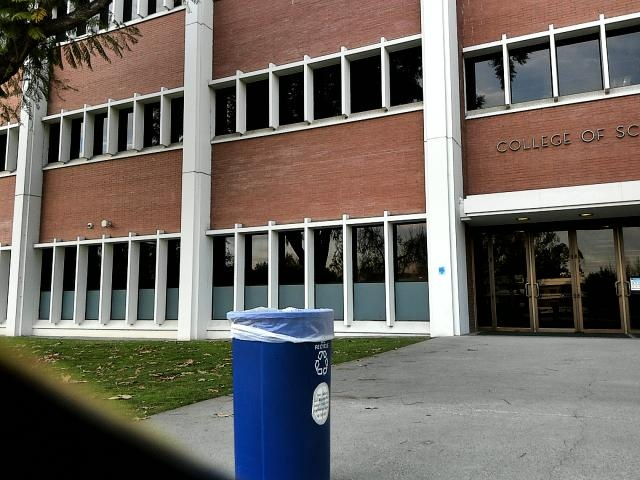trashcan_open: (213, 302, 346, 480)
